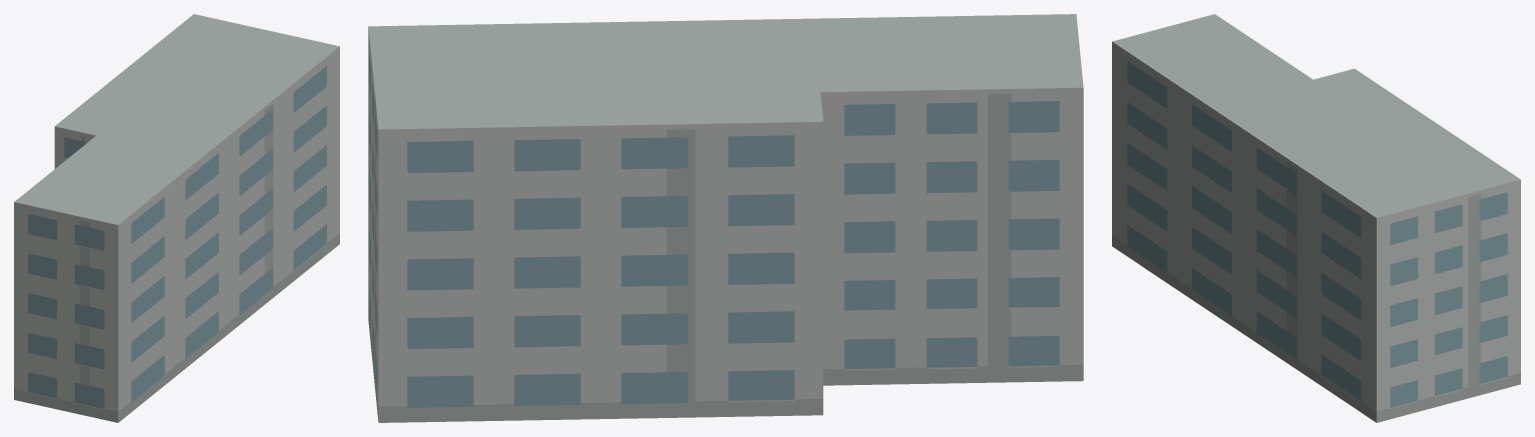
Rendered from residential-5351207e-6155-408f-b50f-bf4cab2c19c4.glb.
The picture shows the model from 3 angles, left to right: view 1: azimuth 30°, elevation 25°; view 2: azimuth 150°, elevation 25°; view 3: azimuth 270°, elevation 25°; orthographic projection. The views are drawn at different scales.
Parts seen in each view (by area): view 1: residential-5351207e-6155-408f-b50f-bf4cab2c19c4.tmp; view 2: residential-5351207e-6155-408f-b50f-bf4cab2c19c4.tmp; view 3: residential-5351207e-6155-408f-b50f-bf4cab2c19c4.tmp.
Boxes of the visible parts, box(x1,y1,x2,y2) form: residential-5351207e-6155-408f-b50f-bf4cab2c19c4.tmp: box(14, 14, 339, 422); residential-5351207e-6155-408f-b50f-bf4cab2c19c4.tmp: box(368, 14, 1083, 422); residential-5351207e-6155-408f-b50f-bf4cab2c19c4.tmp: box(1112, 14, 1520, 422).
Bounding box in the file's own units: 29.08 × 13.6 × 24.61.
